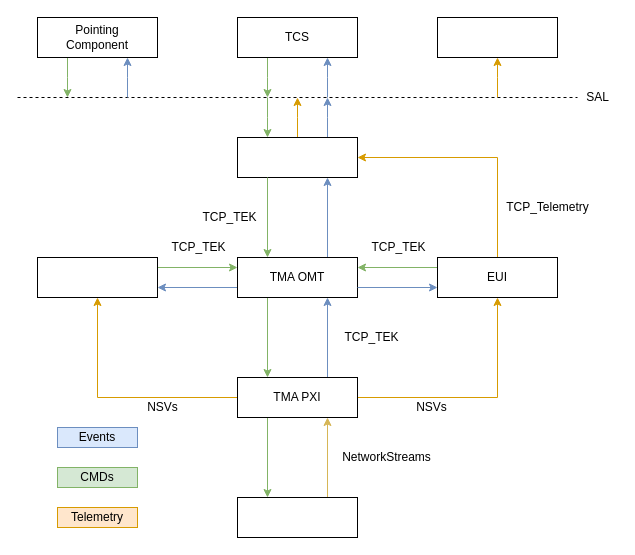
Image size: 635x555. Some labels were removed from this diagram. The box of each missing label's shape, as (x1, y1, x2, y2) in pixels:
AXES PXI: (236, 496, 358, 538)
CSC: (236, 136, 358, 178)
EFD: (436, 16, 558, 58)
HHD: (36, 256, 158, 298)
